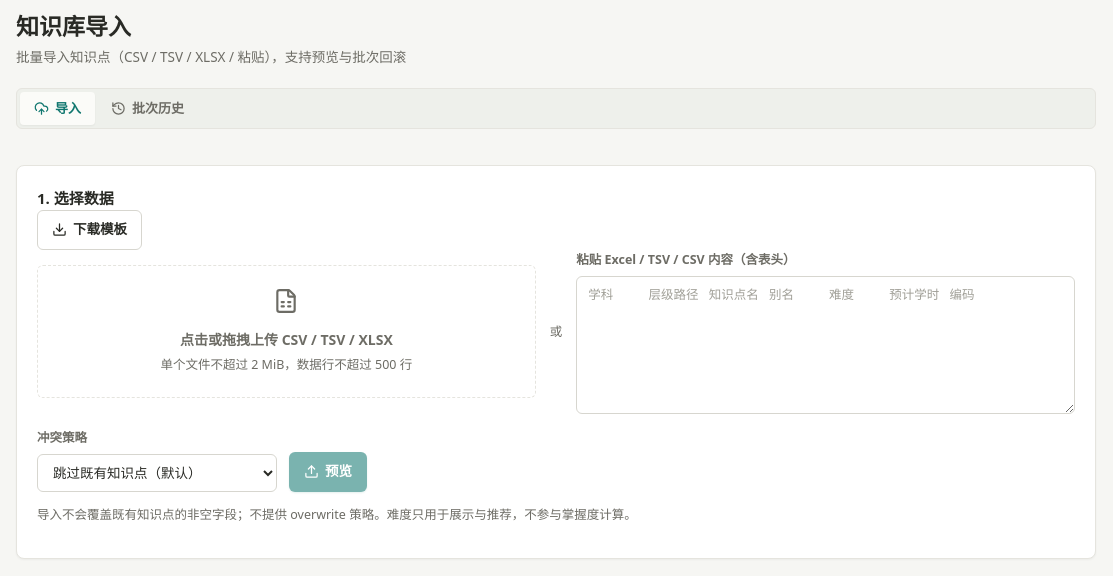
Test: AdminKnowledgeImportView › 批次列表为空时展示空态
Click the button "批次历史".
click(148, 109)  # box [97,92,198,125]
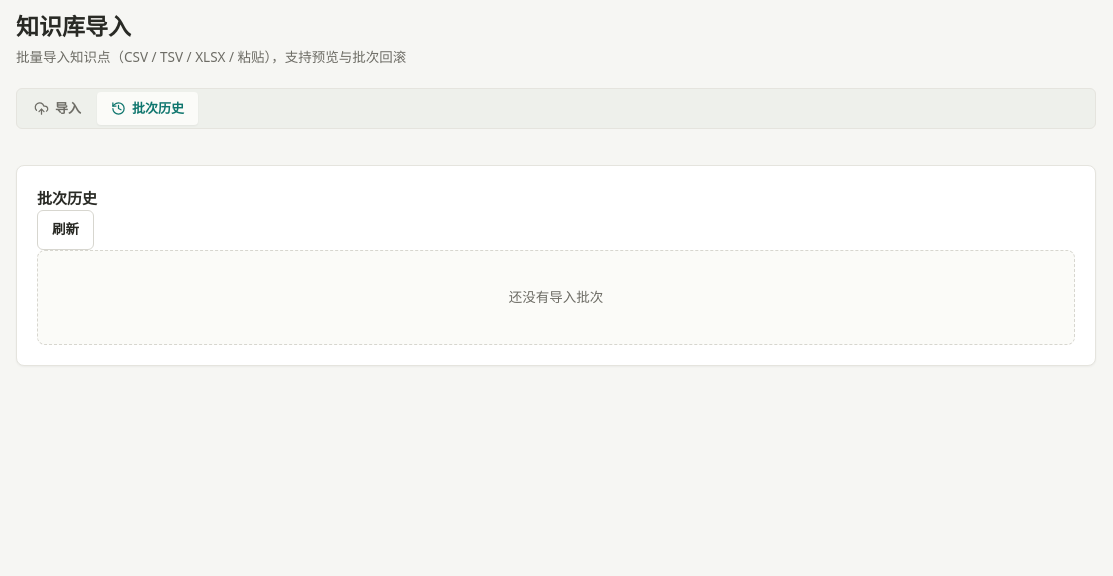
expect the text "还没有导入批次" is shown: met, box [37,250,1075,345]
